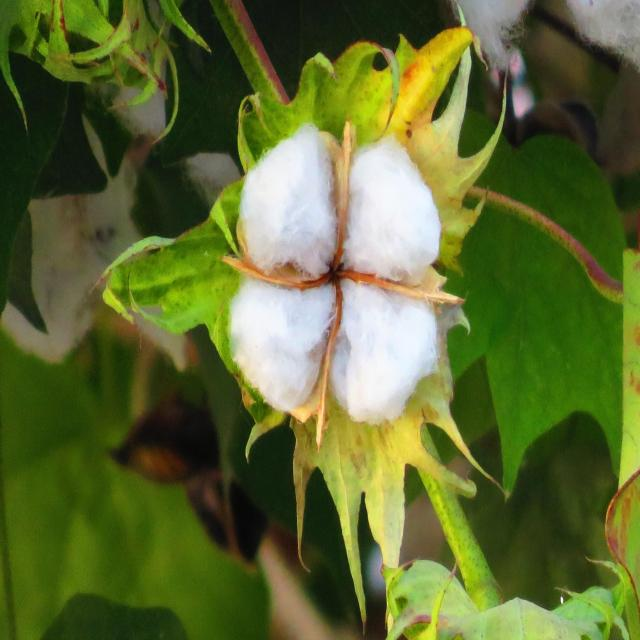Early_blight: (230, 121, 439, 424)
